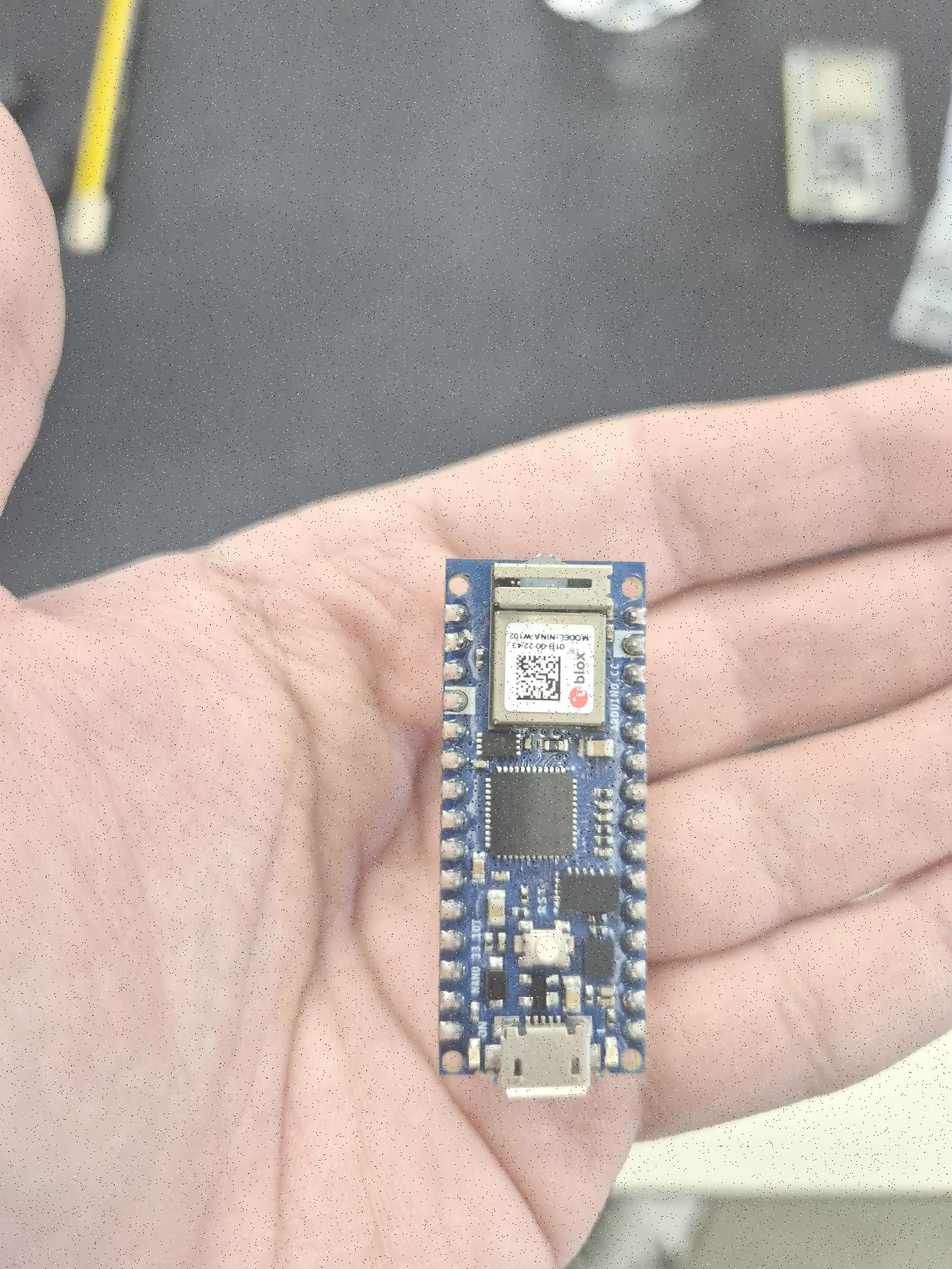arduino-nano-iot-33: (447, 562, 644, 1080)
